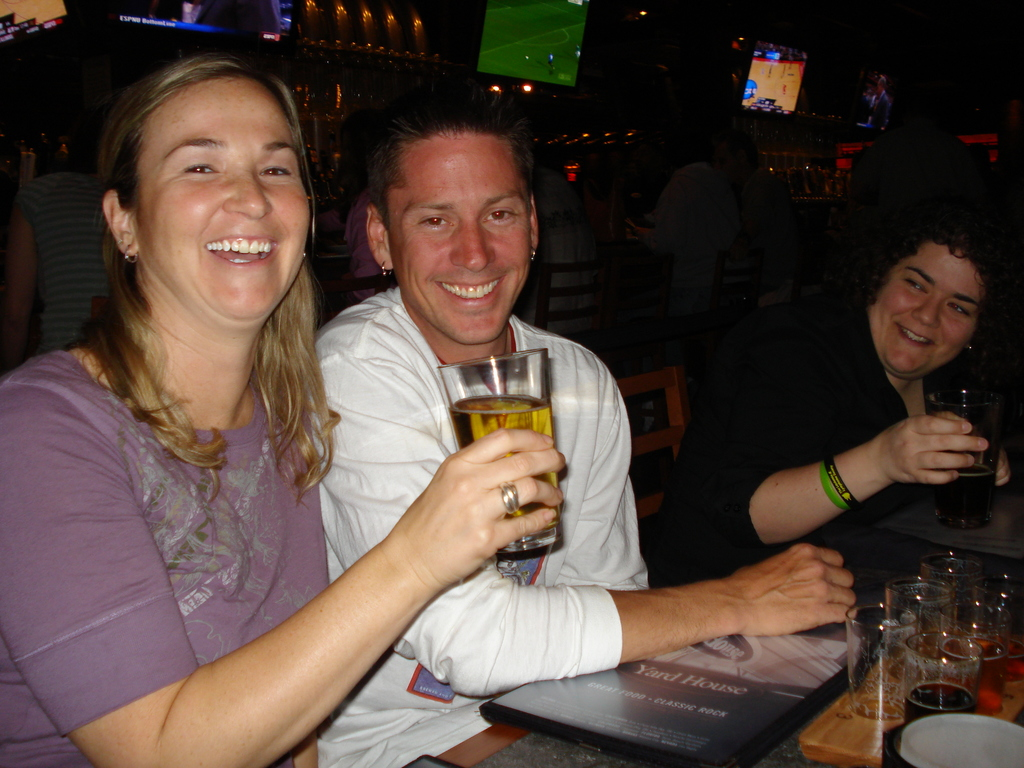Beer: (448, 397, 571, 543), (935, 416, 1001, 467), (903, 684, 983, 722)
